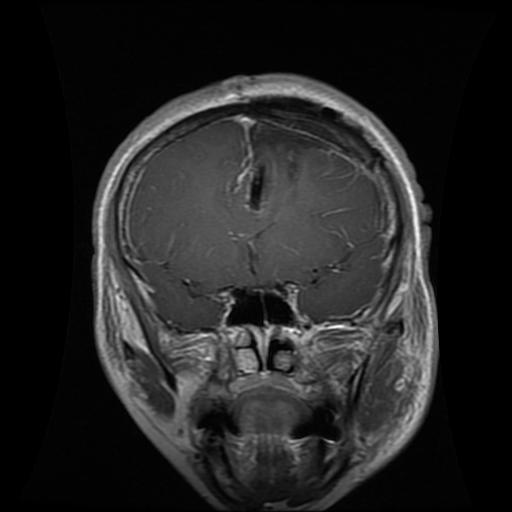Gliomia_tumour: (245, 123, 332, 215)
